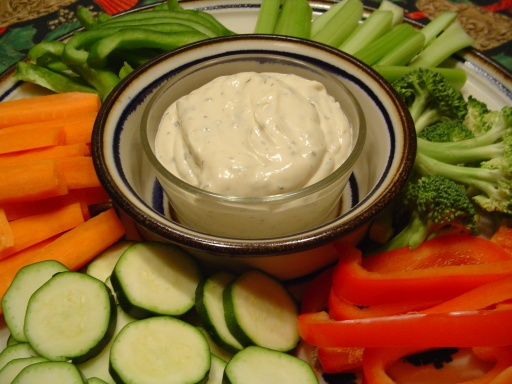background: (0, 0, 410, 230), (123, 42, 282, 143)
